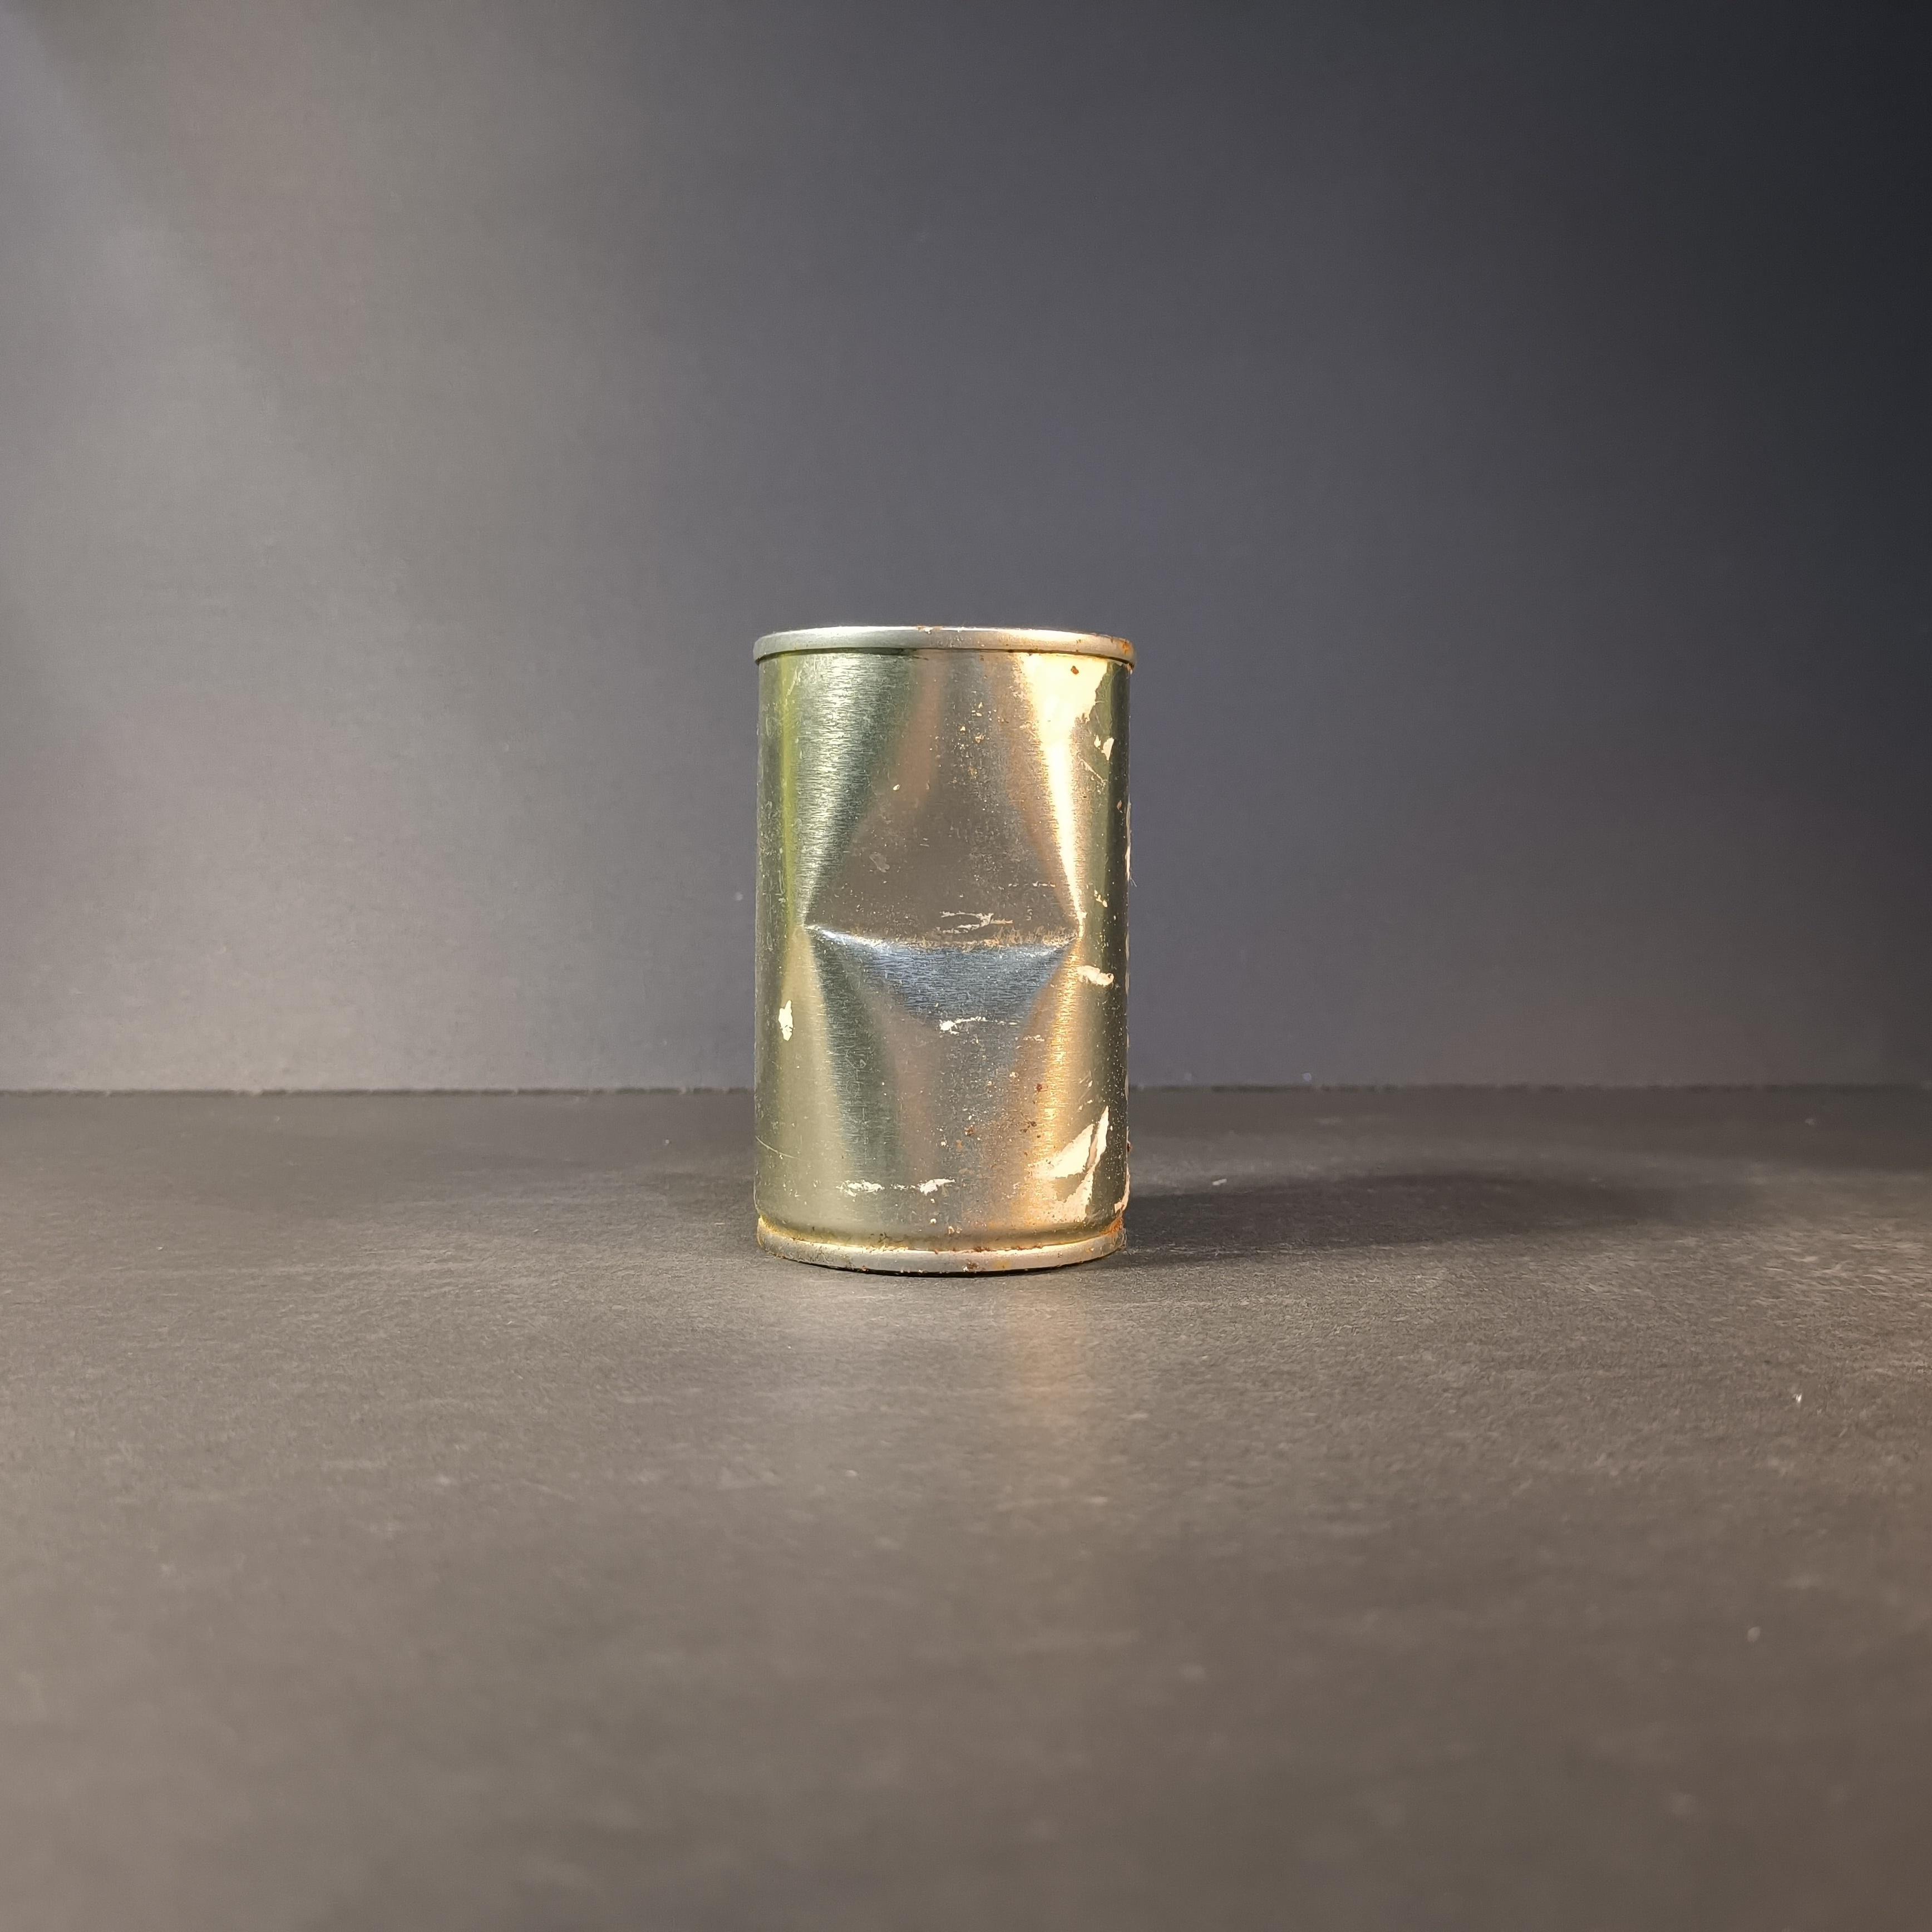Minor Defect: (746, 618, 1140, 1281)
